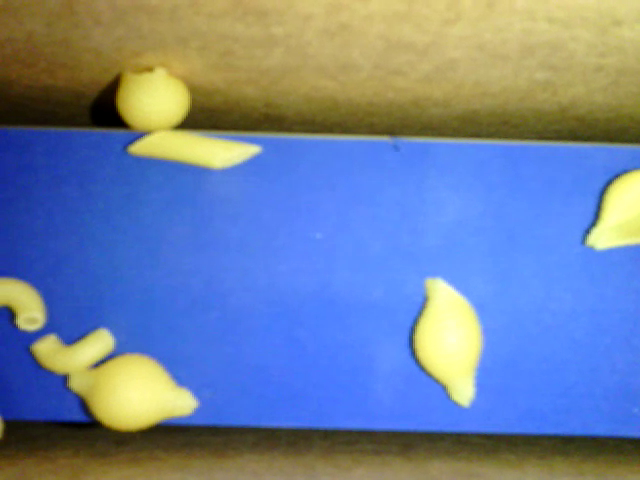elbow: (32, 326, 116, 374), (1, 277, 47, 332)
penne: (124, 129, 262, 171)
shell: (67, 353, 201, 433), (410, 277, 484, 408), (581, 169, 639, 251), (115, 68, 191, 130)
